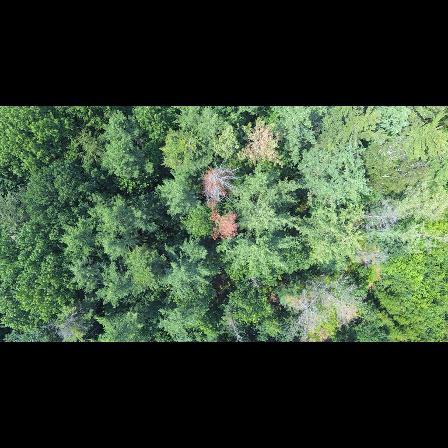Dead: (199, 161, 242, 207), (315, 275, 358, 316), (47, 305, 88, 340), (358, 206, 410, 233), (291, 294, 325, 328), (225, 314, 250, 342)
